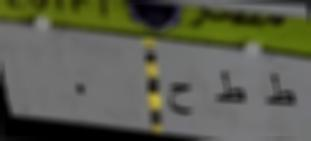0: (69, 66, 93, 106)
7aa: (164, 75, 200, 117)
Taa: (212, 64, 250, 108), (262, 70, 300, 112)
